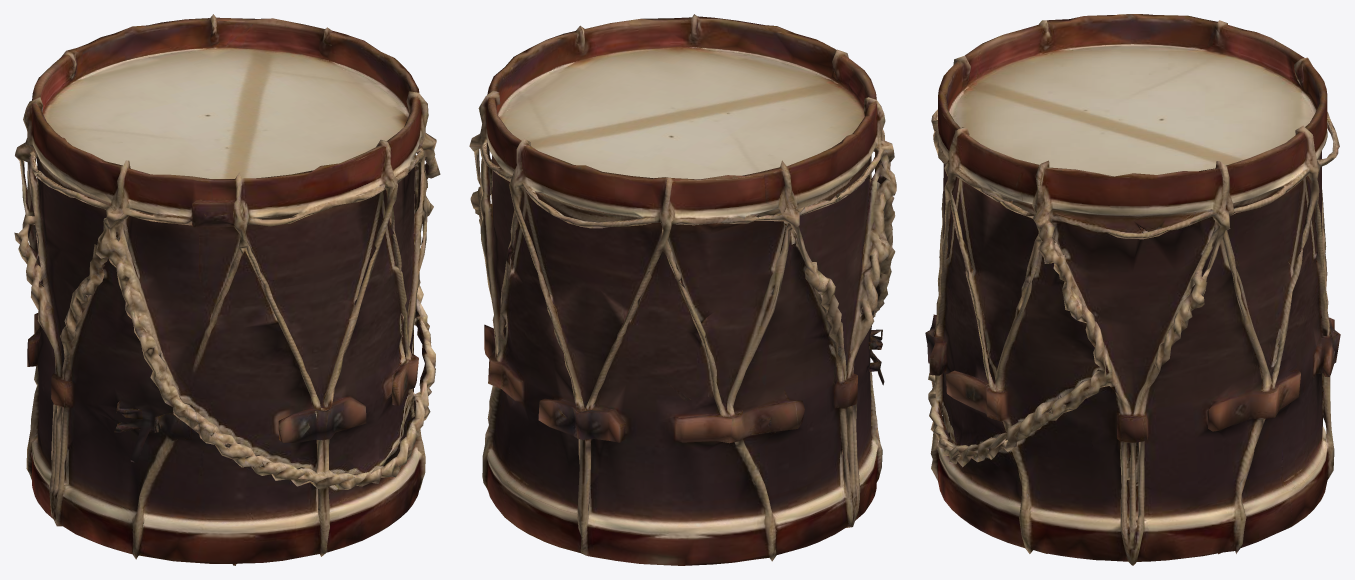
The model's file is drum.glb.
The picture shows the model from 3 angles, left to right: view 1: azimuth 30°, elevation 25°; view 2: azimuth 150°, elevation 25°; view 3: azimuth 270°, elevation 25°; orthographic projection.
Parts seen in each view (by area): view 1: drum; view 2: drum; view 3: drum.
Boxes of the visible parts, bbox=[...] form: drum: bbox=[14, 14, 440, 565]; drum: bbox=[469, 14, 896, 565]; drum: bbox=[925, 14, 1340, 565].
Bounding box in the file's own units: 0.3797 × 0.4 × 0.3807.
1 material, 1 textured.
